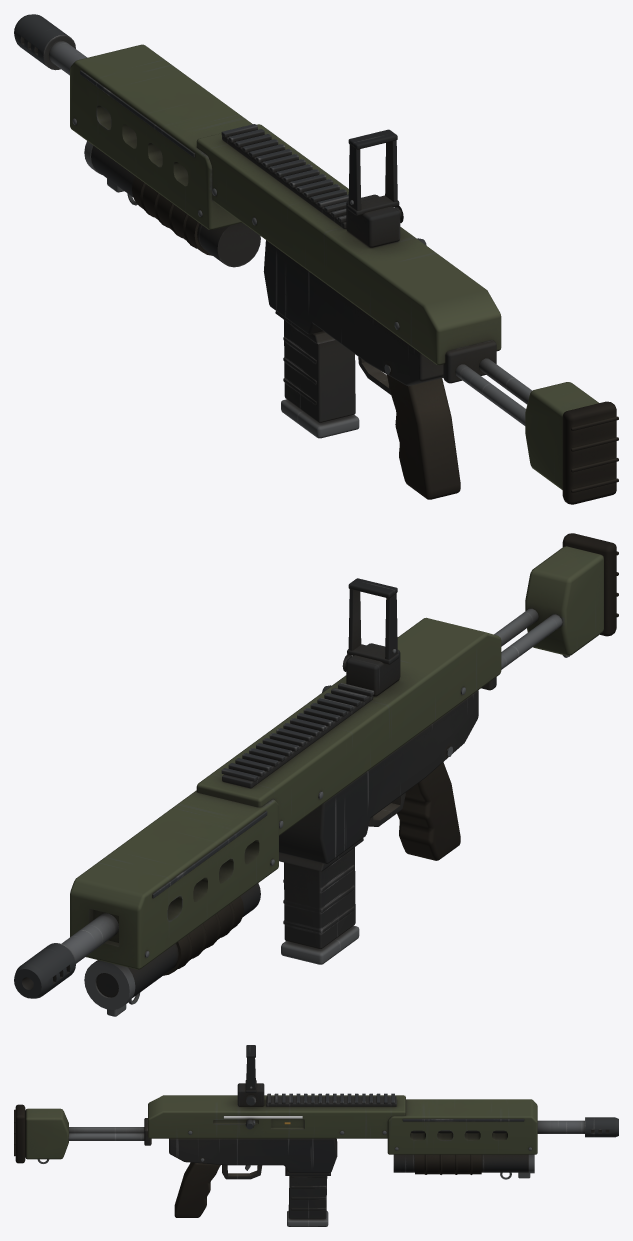
The model's file is rifle.gltf.
3 views of the same model, one above another, from view 1: azimuth 30°, elevation 25°; view 2: azimuth 150°, elevation 25°; view 3: azimuth 270°, elevation 25° (orthographic). The views are drawn at different scales.
Parts seen in each view (by area): view 1: Body, Mag; view 2: Body, Mag; view 3: Body, Mag.
Boxes of the visible parts, x1,y1,x2,y2 form: Body: (14,14,618,504); Mag: (281,320,359,438); Body: (14,533,618,1016); Mag: (281,847,359,964); Body: (14,1045,618,1217); Mag: (287,1176,328,1226).
Size of the model in its own units: 0.0878 by 0.3125 by 0.9965.
Materials: 7 (7 with a texture image).
